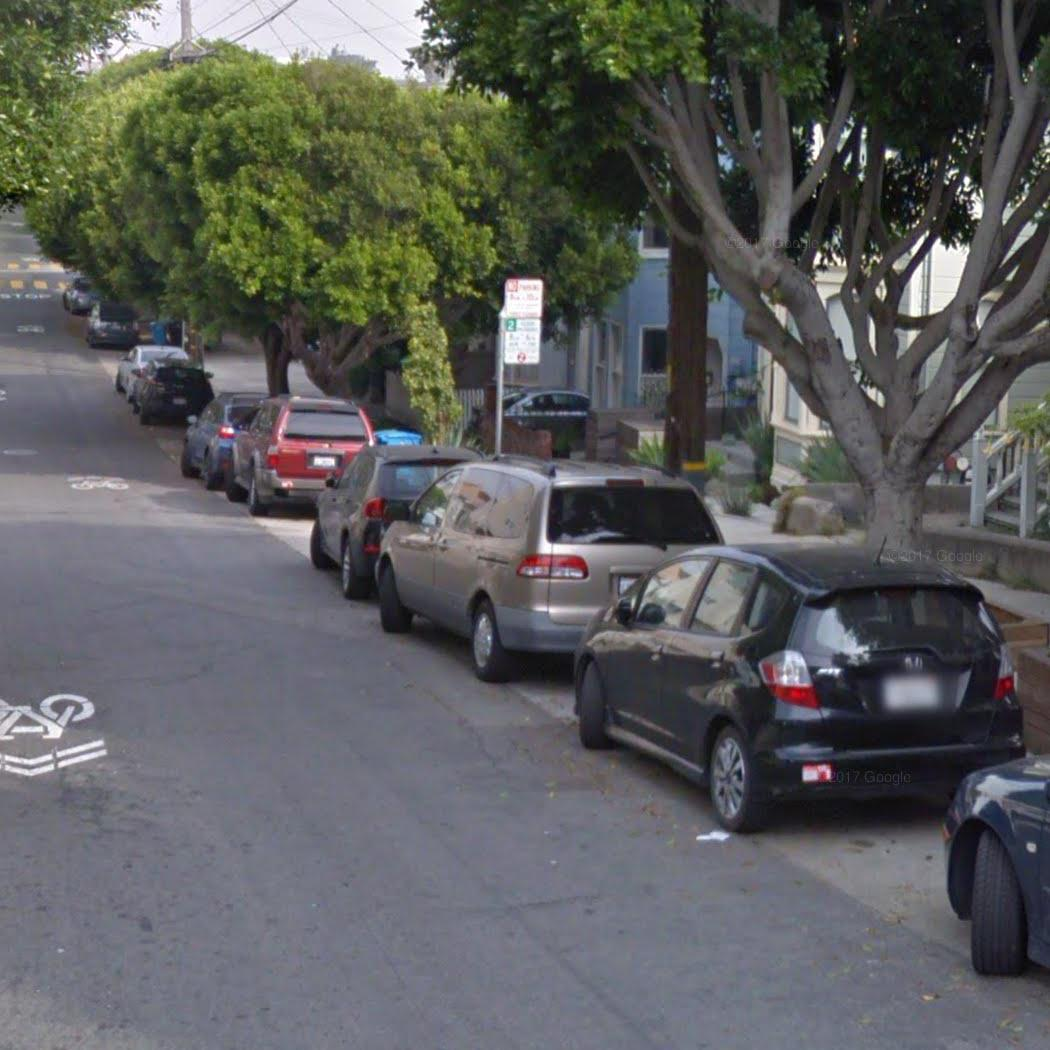2 Hour Parking: (499, 316, 543, 369)
No Parking: (503, 276, 547, 321)
